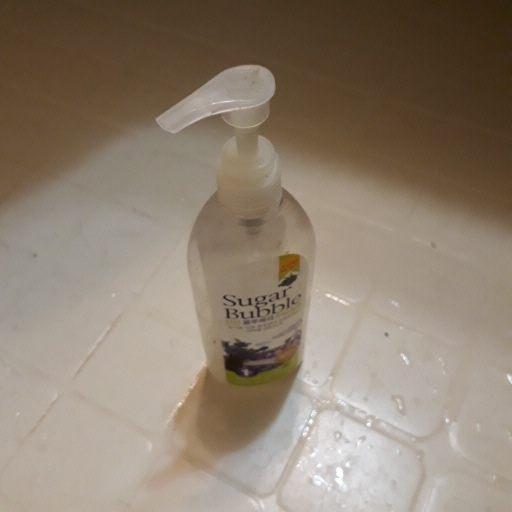Plastic_3: (154, 62, 318, 386)
